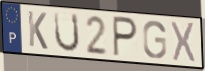2: (84, 14, 108, 56)
G: (141, 20, 168, 60)
K: (26, 9, 49, 51)
P: (112, 14, 139, 59)
U: (53, 11, 81, 54)
X: (170, 20, 196, 65)
